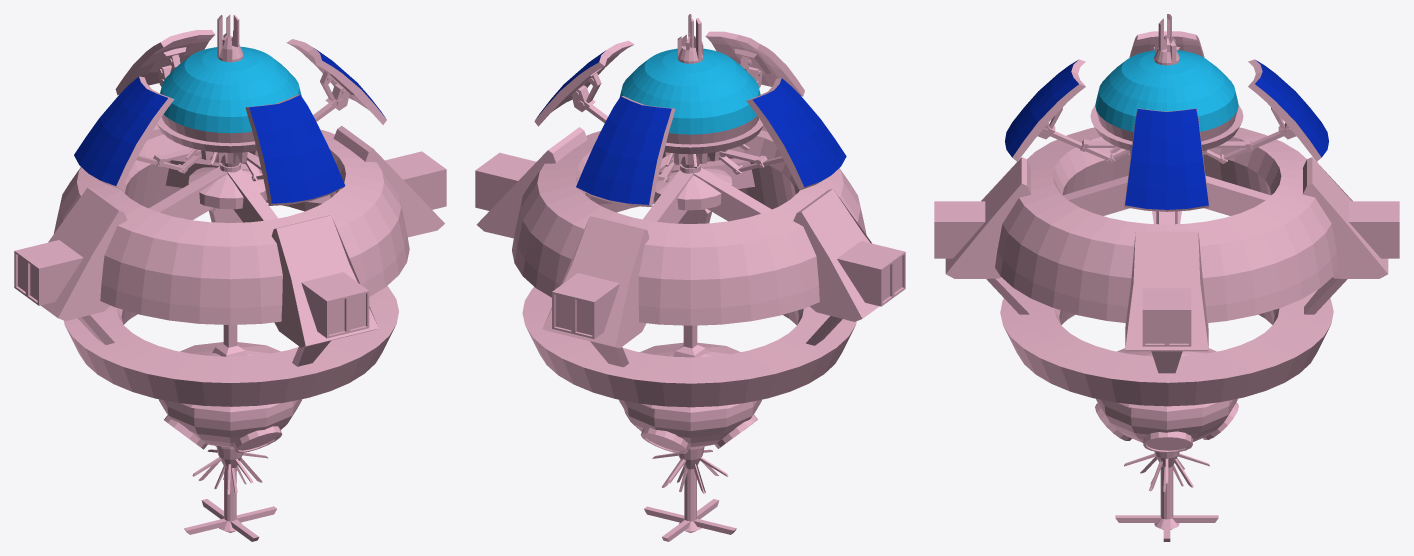
File: Station.fbx
The picture shows the model from 3 angles, left to right: view 1: azimuth 30°, elevation 25°; view 2: azimuth 150°, elevation 25°; view 3: azimuth 270°, elevation 25°; orthographic projection.
Parts seen in each view (by area): view 1: Station, Underdome Greebles.002, Underdome Greebles.001; view 2: Station, Underdome Greebles.002, Underdome Greebles.001; view 3: Station, Underdome Greebles.002, Underdome Greebles.001.
Boxes of the visible parts, box(x1,y1,x2,y2) form: Station: box(14, 14, 446, 541); Underdome Greebles.002: box(74, 48, 385, 203); Underdome Greebles.001: box(160, 46, 301, 133); Station: box(475, 14, 905, 541); Underdome Greebles.002: box(535, 50, 846, 204); Underdome Greebles.001: box(619, 48, 760, 134); Station: box(934, 14, 1399, 541); Underdome Greebles.002: box(1005, 60, 1328, 209); Underdome Greebles.001: box(1095, 50, 1238, 131).
Size of the model in its own units: 1698 by 2067 by 1698.
